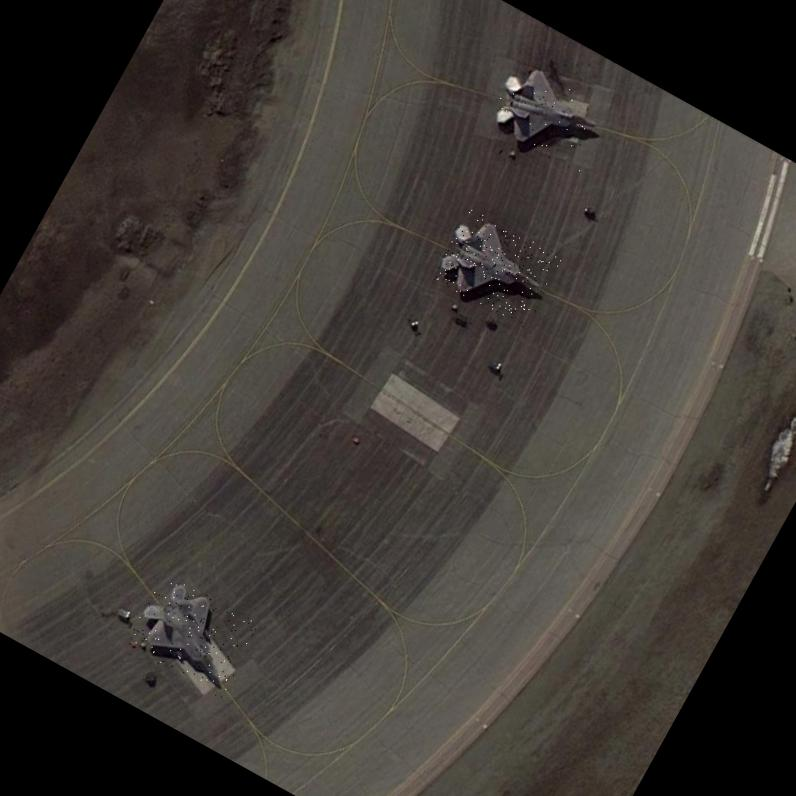A15: (123, 571, 263, 699), (430, 206, 564, 330), (482, 55, 615, 176)
